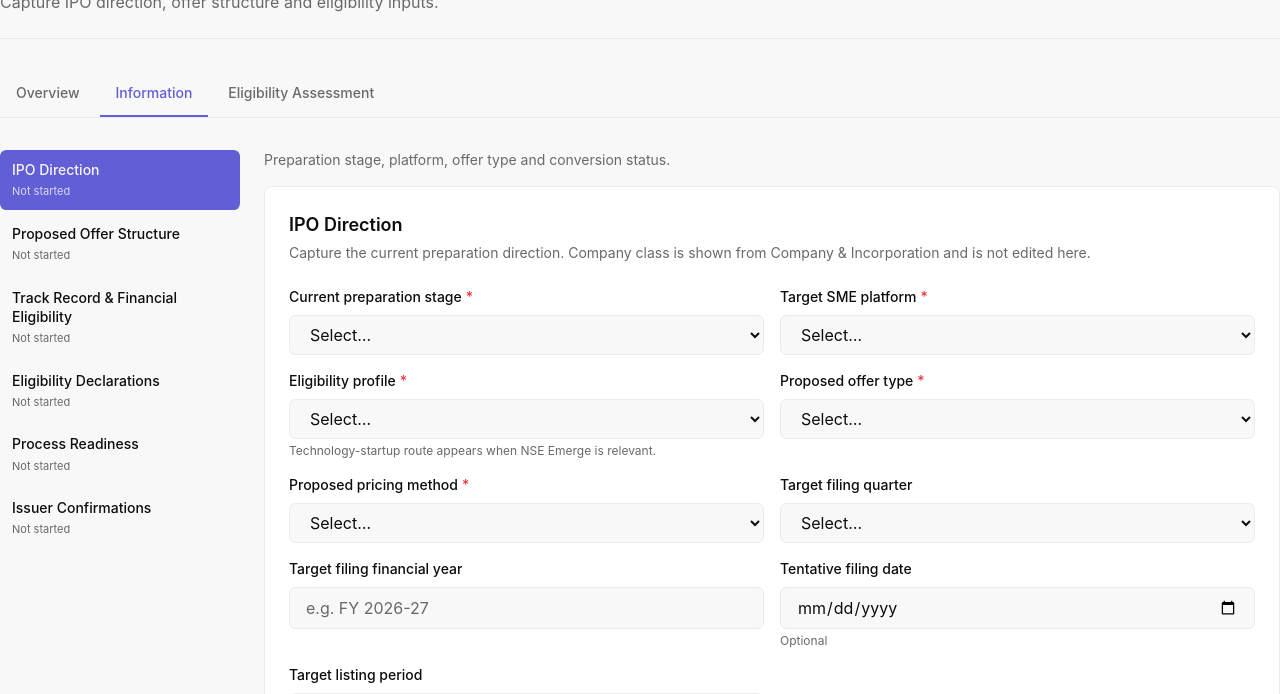
it: IPO Setup workstream UI (I2 persistence) › saves the active section through the API
Select "Exploring an IPO" in the dropdown labelled "Current preparation stage*". click: x=526, y=335
box: [289,315,764,355]
(page scrolled)
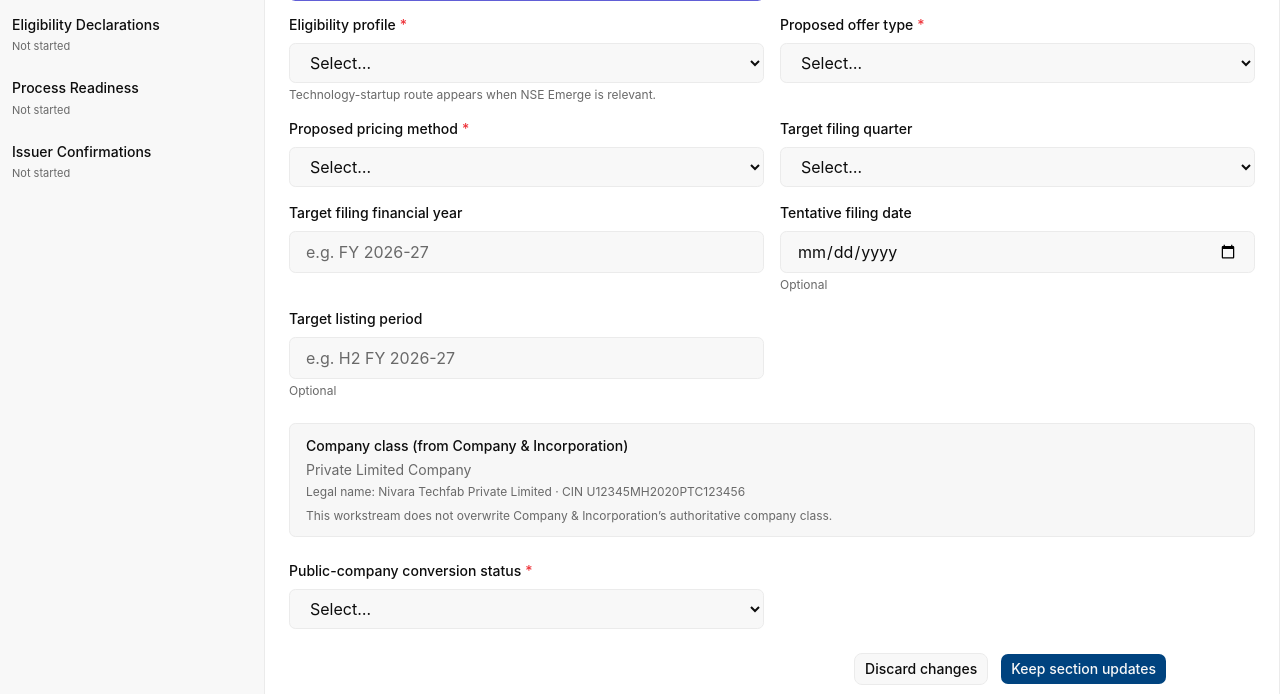
Click the button "Keep section updates". click: x=1084, y=669
box: [1000,653,1167,685]
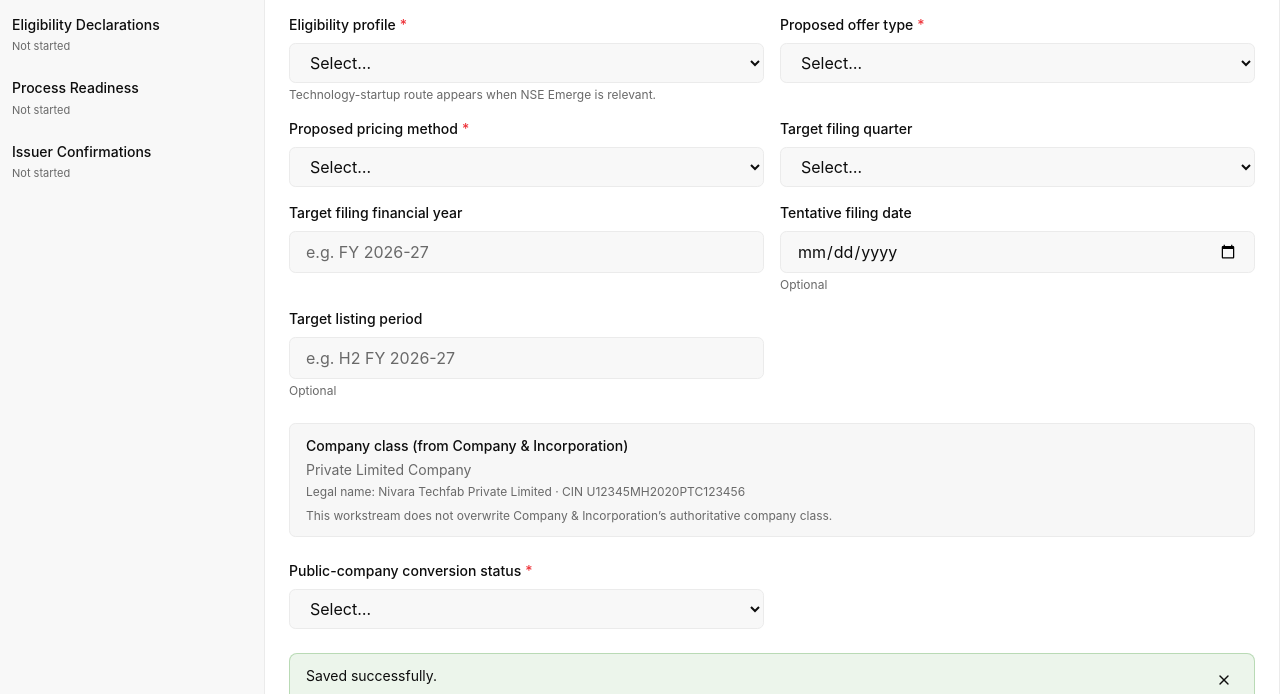
Expected: the text "Saved successfully." is shown, [306,666,437,686]
